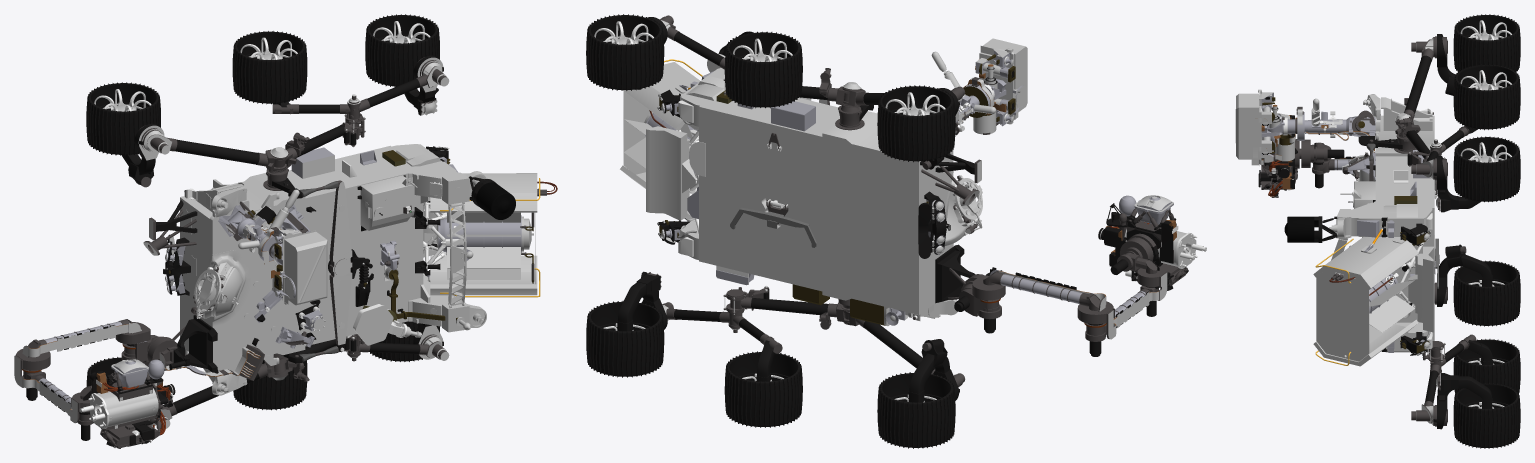
The model's file is mars_rover_clean.obj.
3 views of the same model, side by side, from view 1: azimuth 30°, elevation 25°; view 2: azimuth 150°, elevation 25°; view 3: azimuth 270°, elevation 25° (orthographic). The views are drawn at different scales.
Parts seen in each view (by area): view 1: Body, Wheels_objs, suspension, rtg, Body_Parts, turret_obj, lab, head, box, arm, arm.001, arm.002 (+10 smaller); view 2: Body, Wheels_objs, suspension, rtg, Body_Parts, turret_obj, RIMFAX, arm, head, arm.002, lab, arm.003 (+10 smaller); view 3: Wheels_objs, rtg, suspension, Body, head, RIMFAX, Body_Parts, turret_obj, antenna_uhf, bottom, hazcams_rear, top (+6 smaller).
Part boxes in pixels (x1,y1,x2,y2): Body: (180,144,486,395); Wheels_objs: (86,14,439,423); suspension: (121,55,449,428); rtg: (415,159,557,297); Body_Parts: (186,144,484,392); turret_obj: (79,359,175,446); lab: (191,250,251,326); head: (271,230,327,305); box: (357,175,417,231); arm: (14,349,93,440); arm.001: (147,315,218,373); arm.002: (22,319,141,357); Body: (680,54,958,326); Wheels_objs: (586,14,955,448); suspension: (617,15,965,402); rtg: (620,59,703,233); Body_Parts: (678,81,934,325); turret_obj: (1098,195,1206,284); RIMFAX: (646,126,696,220); arm: (1077,266,1167,356); head: (973,38,1027,134); arm.002: (983,270,1106,311); lab: (942,171,982,252); arm.003: (954,275,1005,333); Wheels_objs: (1453,14,1520,448); rtg: (1313,217,1430,366); suspension: (1366,34,1493,429); Body: (1331,94,1434,352); head: (1235,89,1294,165); RIMFAX: (1408,246,1434,332); Body_Parts: (1329,98,1432,352); turret_obj: (1261,115,1299,196); antenna_uhf: (1284,216,1337,242); bottom: (1304,116,1369,140); hazcams_rear: (1400,223,1430,355); top: (1267,104,1304,142).
Bounding box in the file's own units: 4.09 × 2.7 × 2.23.
